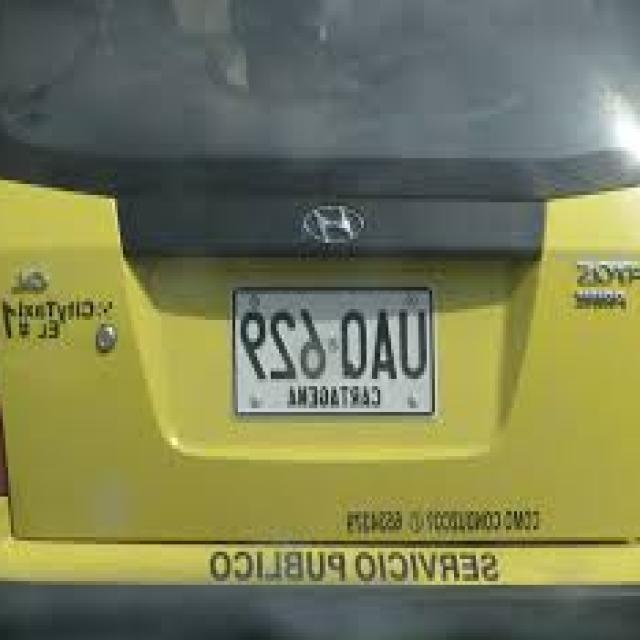number plate: (230, 280, 437, 421)
